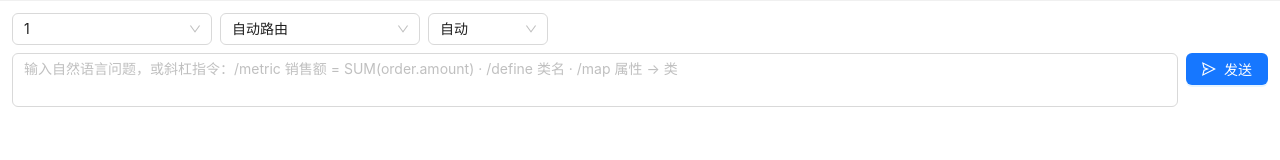
Test: ChatPanel 相似问题建议 › 发送消息后清空建议 chips
Type "各供应商" into the text box with placeholder "输入自然语言问题". click: (595, 80)
box: x1=12 y1=53 x2=1178 y2=107
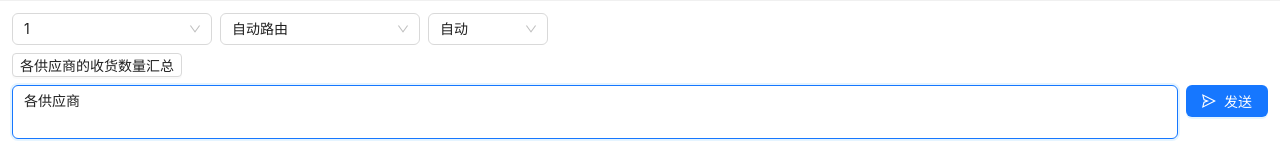
Check: the button "各供应商的收货数量汇总" is shown, box x1=12 y1=53 x2=182 y2=77
Click the button "发送". click: (1227, 101)
box: x1=1186 y1=85 x2=1268 y2=117
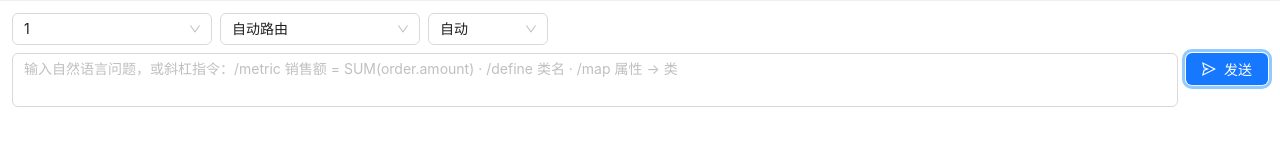
Check: the button "各供应商的收货数量汇总" is gone
